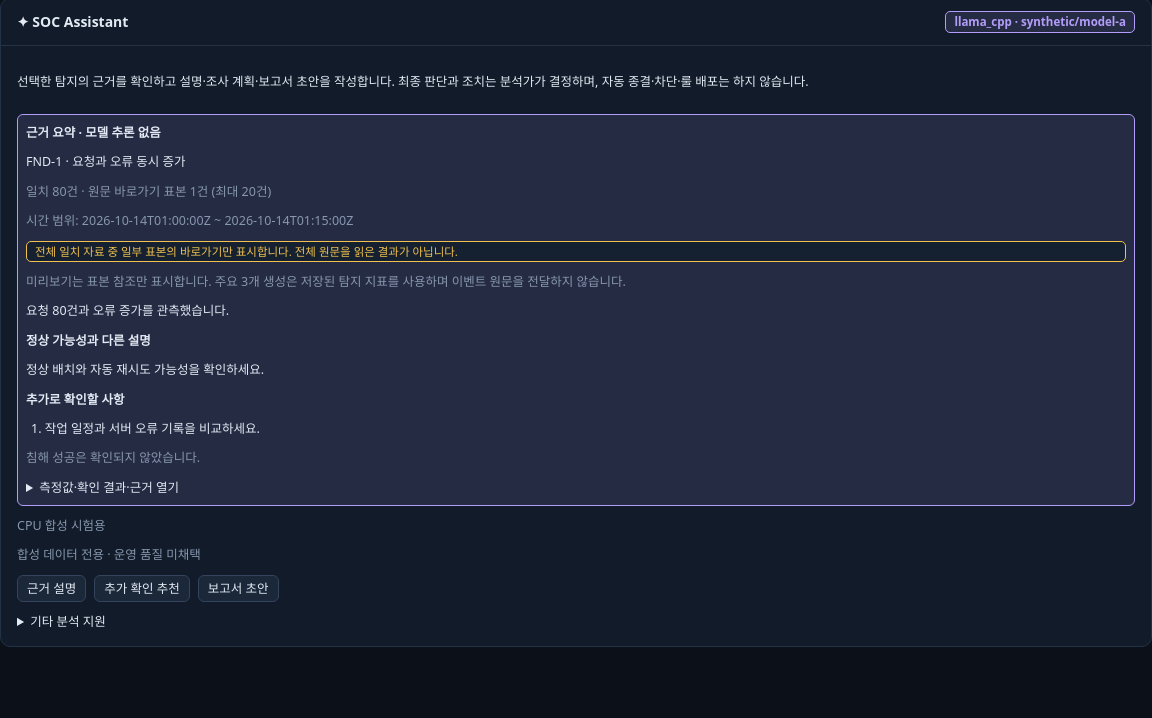
Test: labels executed model output as an unverified draft and preserves reviewed note saving
The image size is (1152, 718).
Expected: the text "요청 80건과 오류 증가를 관측했습니다." is shown, [26,302,229,320]
Step 1. Click the button "근거 설명" → point(52, 589), box [17,575,86,602]
(page scrolled)
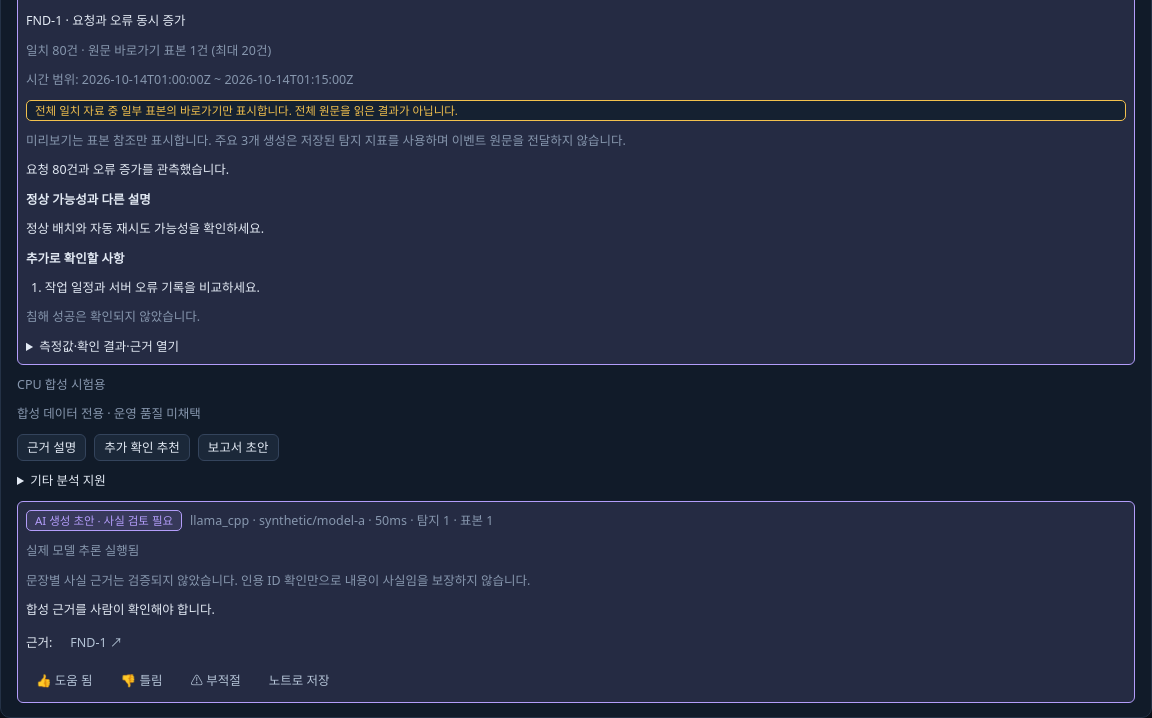
Expected: the text "실제 모델 추론 실행됨" is shown, [26,542,139,559]
Expected: the text "AI 생성 초안 · 사실 검토 필요" is shown, [26,510,182,531]
Expected: the text "문장별 사실 근거는 검증되지 않았습니다. 인용 ID 확인만으로 내용이 사실임을 보장하지 않습니다." is shown, [26,572,530,588]
Step 2. Click the button "노트로 저장" → point(299, 680), box [259,667,340,694]
(page scrolled)
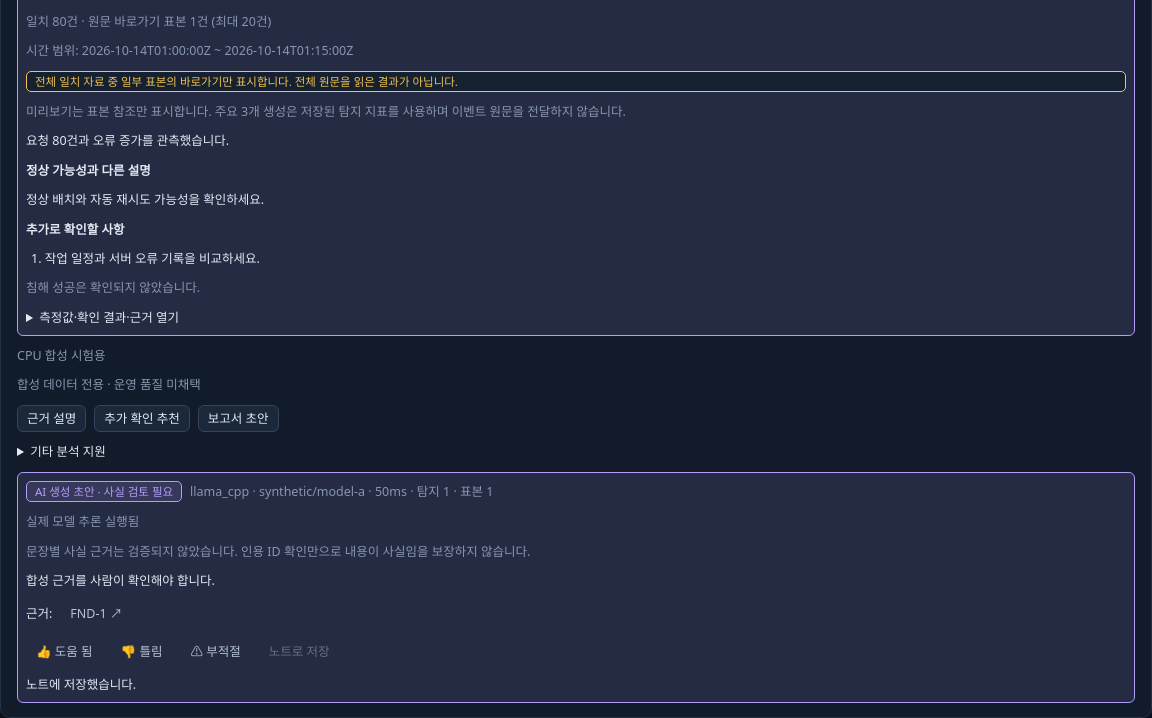
Expected: the text "노트에 저장했습니다." is shown, [26,676,136,693]
